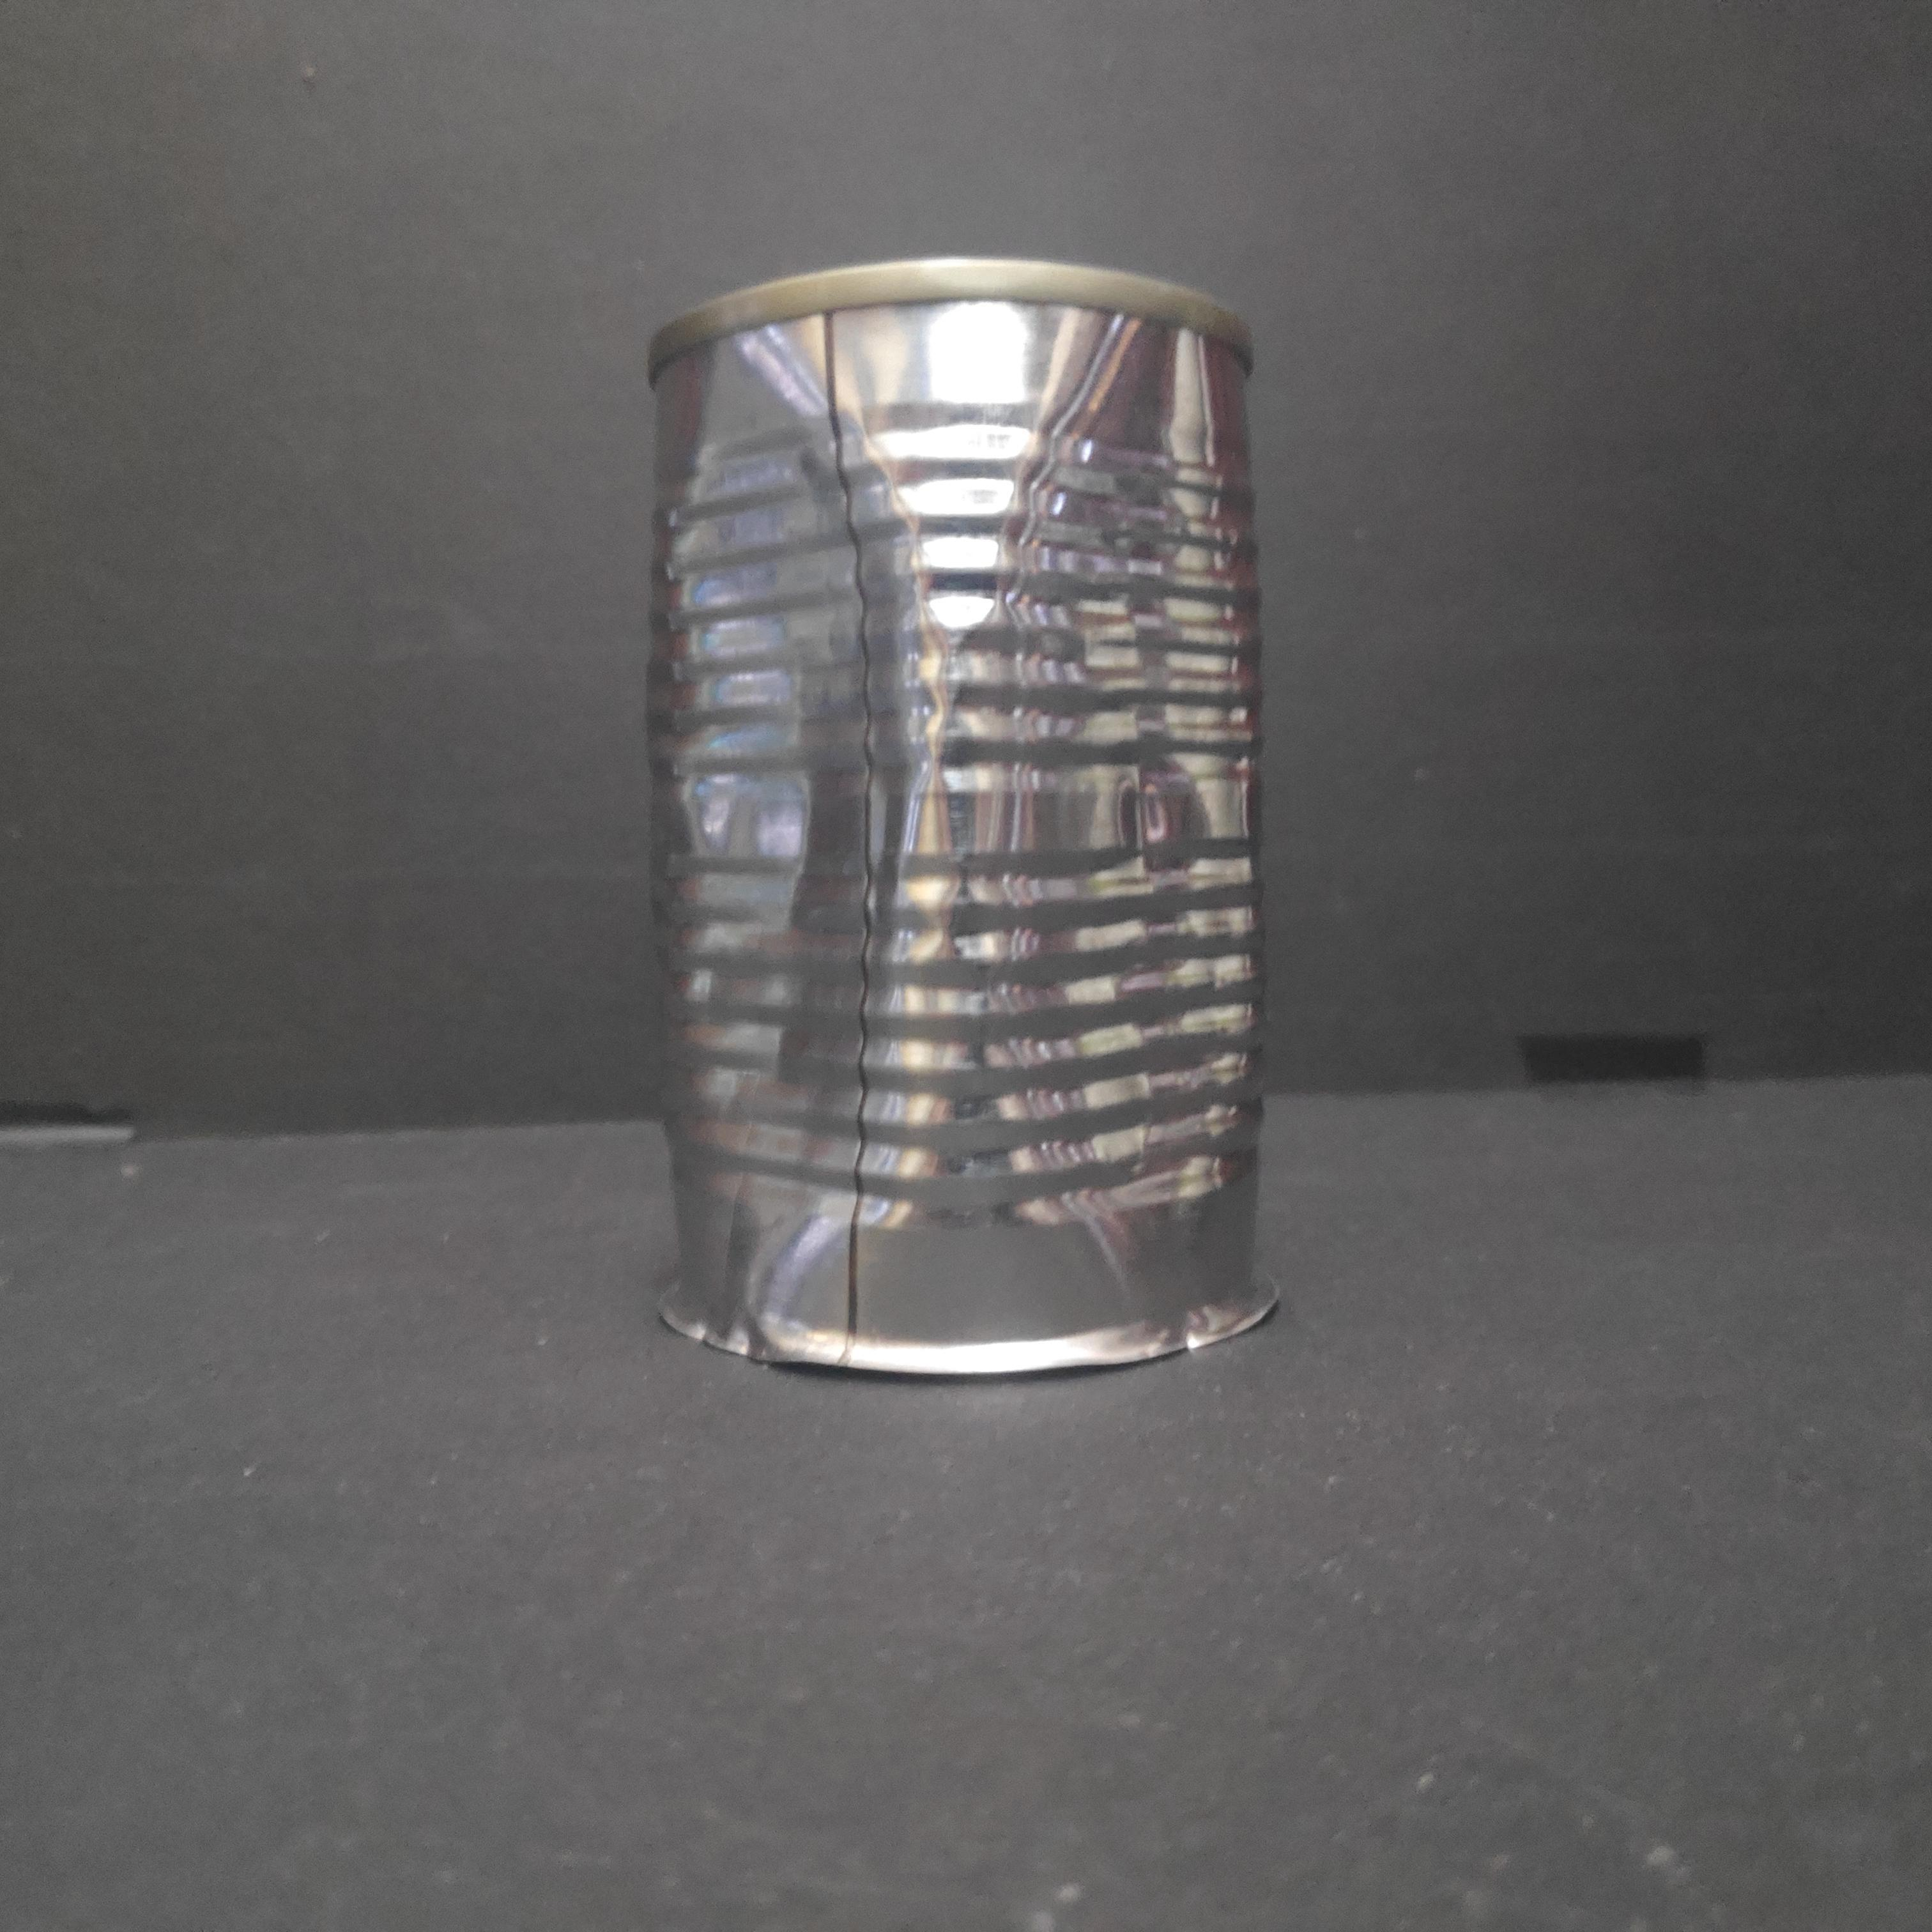Dented: (633, 226, 1288, 1399)
